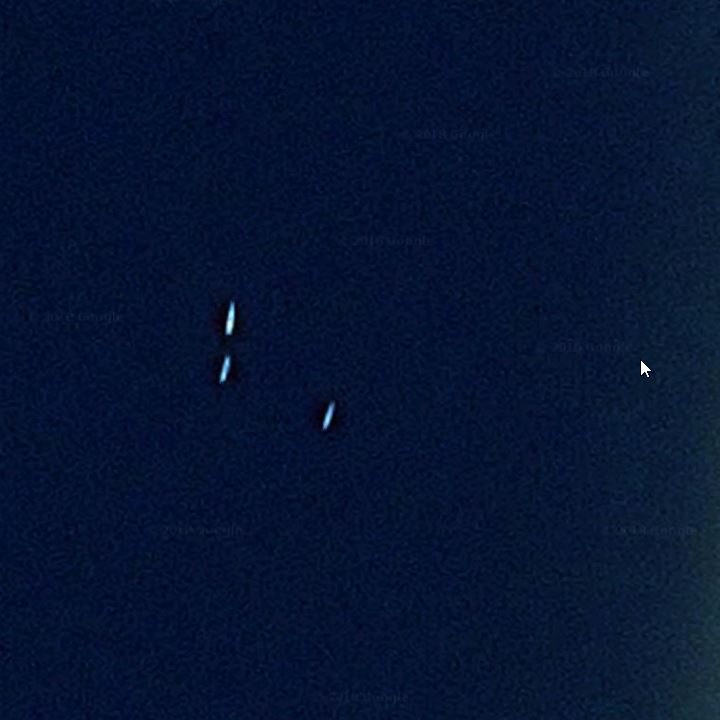boat: (216, 297, 242, 338), (316, 392, 339, 436), (213, 356, 238, 389)
